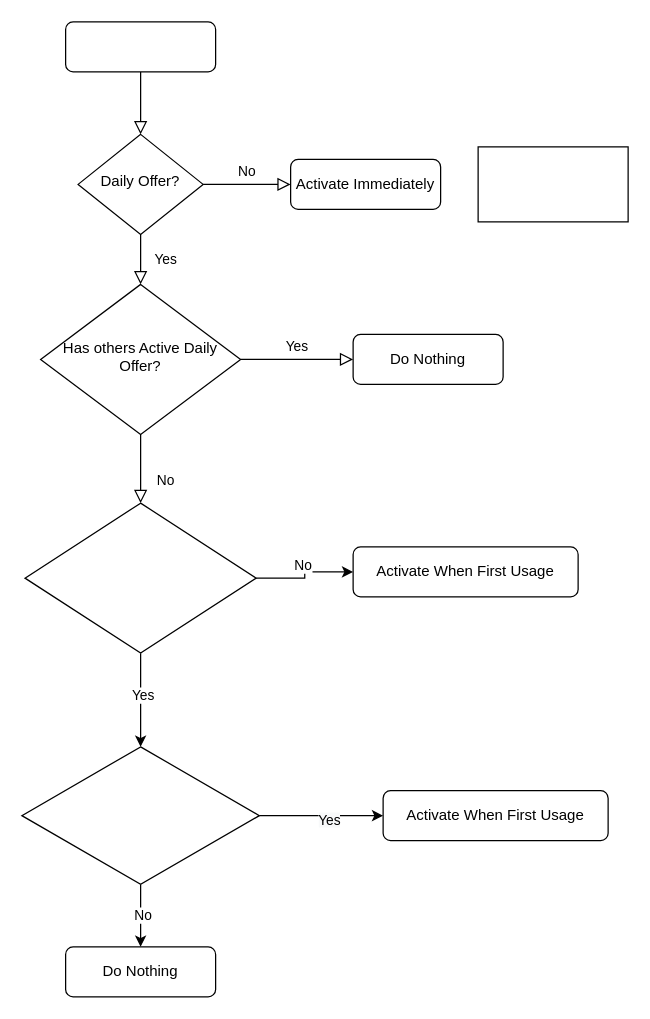
This 650x1019 diagram has some shape labels left out. The shapes that lost their labels are listed below. From the top down, each one's centre as x and y in pixels, then its label:
point 140,46: Offer Activation Check
point 552,184: SOSIM 1 day pass is not Daily Pass
point 140,577: Has others Non-Active Daily Offer?
point 140,815: The offer end date is the earliest expired
